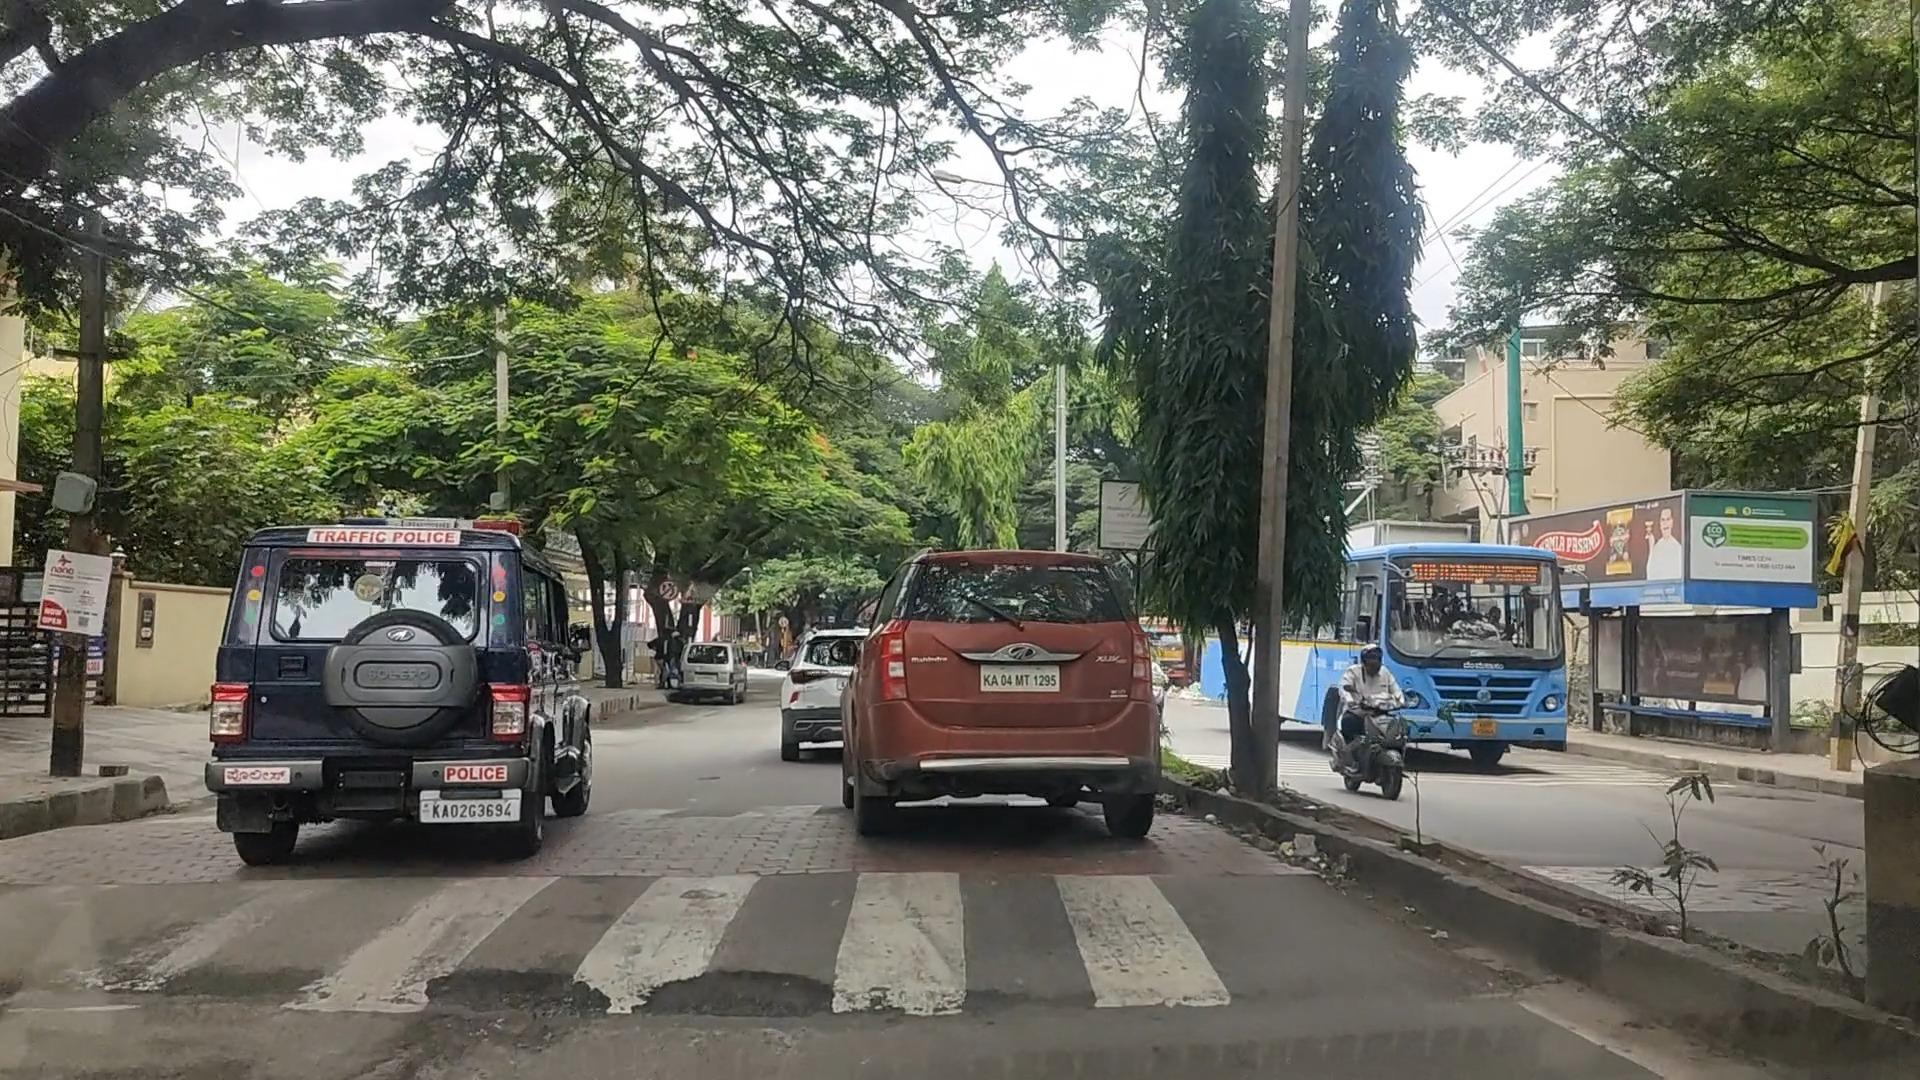LMV: (220, 527, 542, 832), (876, 545, 1153, 825)
RoadDamages: (645, 965, 855, 1030), (427, 955, 597, 1025), (150, 957, 313, 1015)
SpeedBump: (42, 860, 1451, 1015)
